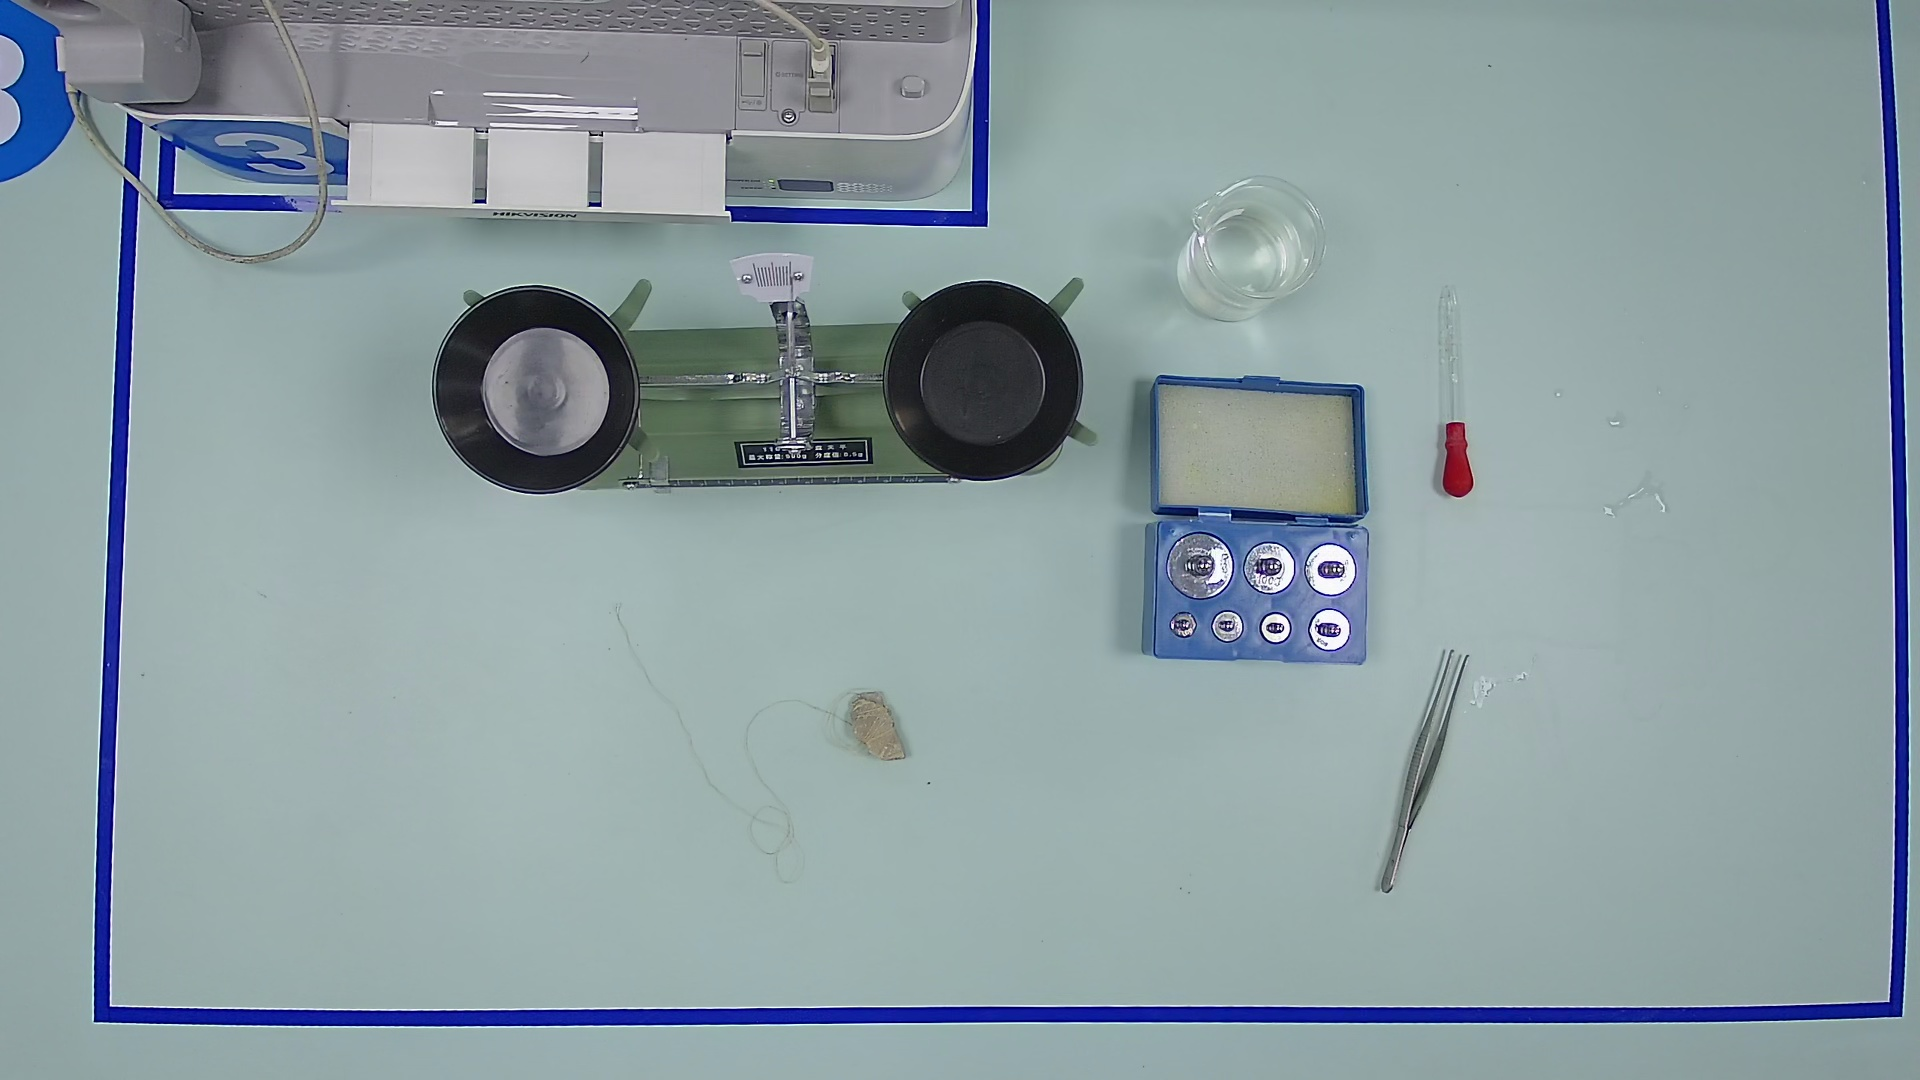bei: (1168, 164, 1325, 330)
diguan: (1414, 269, 1495, 509)
diguantou: (1431, 415, 1487, 506)
fama: (1163, 527, 1237, 604), (1298, 537, 1364, 605), (1240, 538, 1300, 601), (1309, 607, 1358, 655), (1258, 609, 1298, 651), (1208, 607, 1247, 647), (1167, 609, 1197, 641)
gan: (615, 446, 952, 518)
he: (1108, 477, 1411, 699)
niezi: (1361, 651, 1477, 905)
pointer: (733, 249, 811, 299)
shi: (833, 682, 924, 771)
tuo: (861, 255, 1108, 512), (415, 268, 661, 516)
you: (644, 454, 678, 500)
